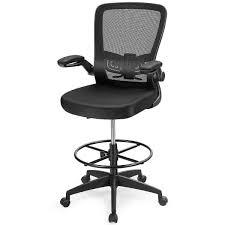chair: (55, 0, 170, 225)
